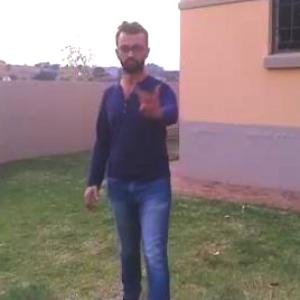takeoff-hand: (130, 67, 169, 121)
